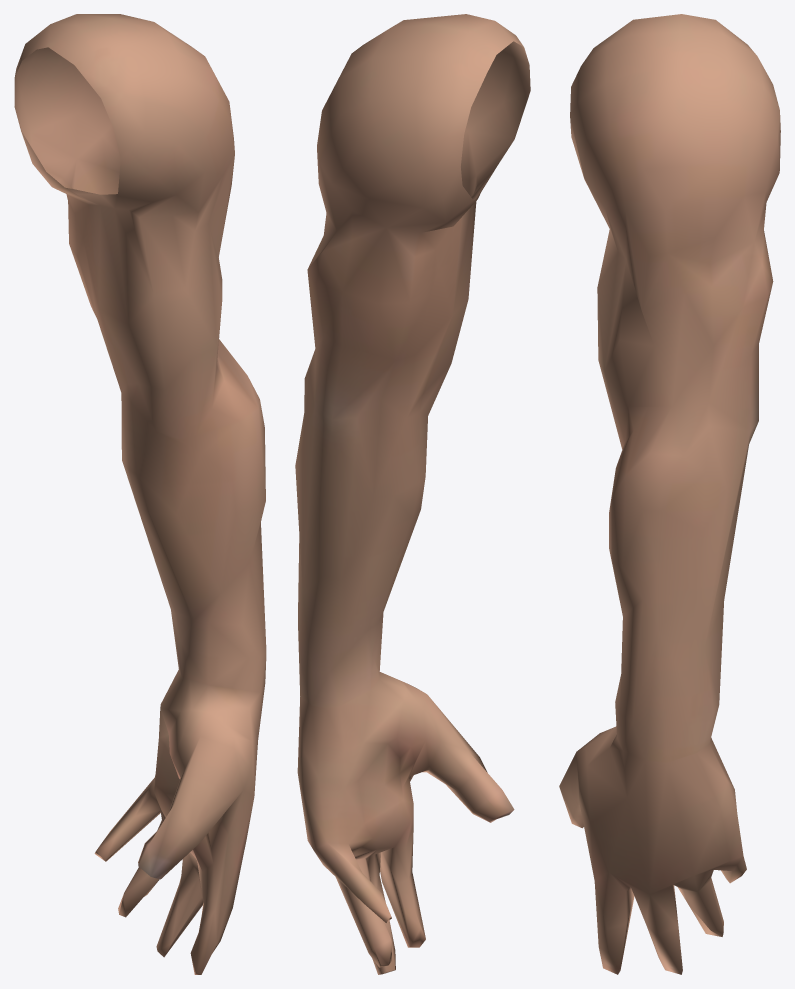
Rendered from PRP_MuscleModel_lod.glb.
3 views of the same model, side by side, from view 1: azimuth 30°, elevation 25°; view 2: azimuth 150°, elevation 25°; view 3: azimuth 270°, elevation 25° (orthographic). The views are drawn at different scales.
Visible parts, largest first — view 1: defaultMaterial; view 2: defaultMaterial; view 3: defaultMaterial.
Part boxes in pixels (left/top/right/bottom): defaultMaterial: left=14, top=14, right=266, bottom=974; defaultMaterial: left=295, top=14, right=530, bottom=974; defaultMaterial: left=559, top=14, right=780, bottom=974.
Bounding box in the file's own units: 0.4428 × 1.99 × 0.4359.
1 material, 1 textured.
